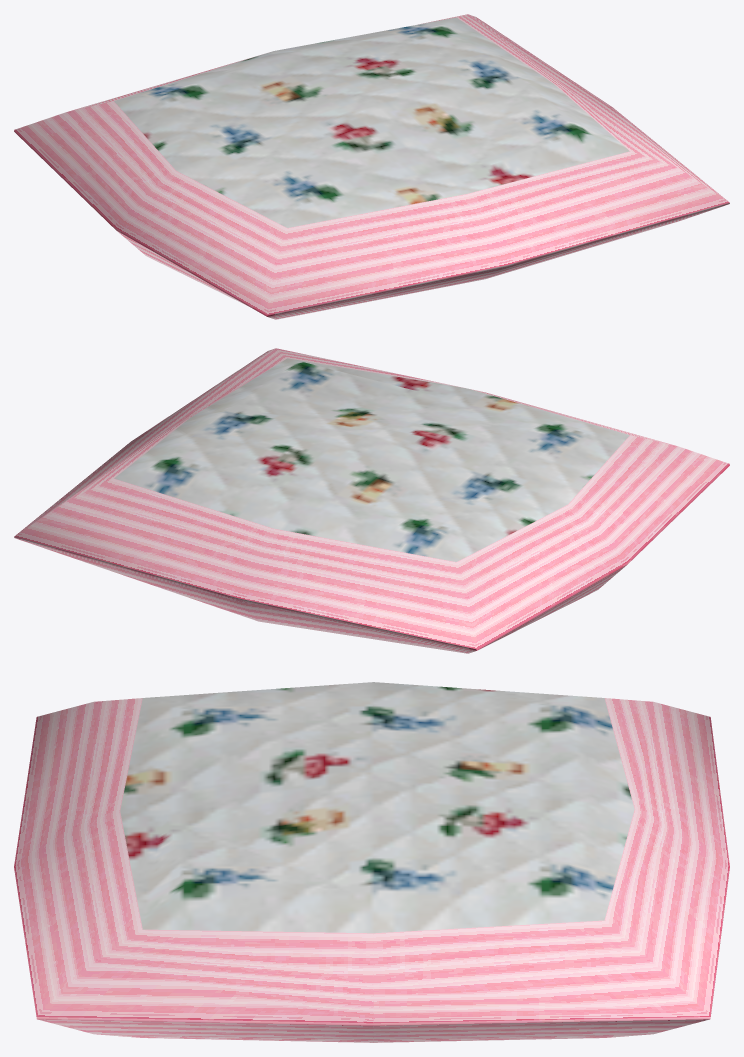
The picture shows the model from 3 angles, top to bottom: view 1: azimuth 30°, elevation 25°; view 2: azimuth 150°, elevation 25°; view 3: azimuth 270°, elevation 25°; orthographic projection. The views are drawn at different scales.
Visible parts, largest first — view 1: Joint_0_Object_0, Joint_0_Object_1; view 2: Joint_0_Object_0, Joint_0_Object_1; view 3: Joint_0_Object_0, Joint_0_Object_1.
Part boxes in pixels (box(x1,y1,x2,y2)): Joint_0_Object_0: box(14, 14, 729, 319); Joint_0_Object_1: box(114, 17, 629, 227); Joint_0_Object_0: box(14, 348, 729, 653); Joint_0_Object_1: box(114, 358, 629, 561); Joint_0_Object_0: box(14, 698, 729, 1042); Joint_0_Object_1: box(120, 682, 634, 933).
Size of the model in its own units: 1270 by 288 by 1190.
Materials: 2 (2 with a texture image).
